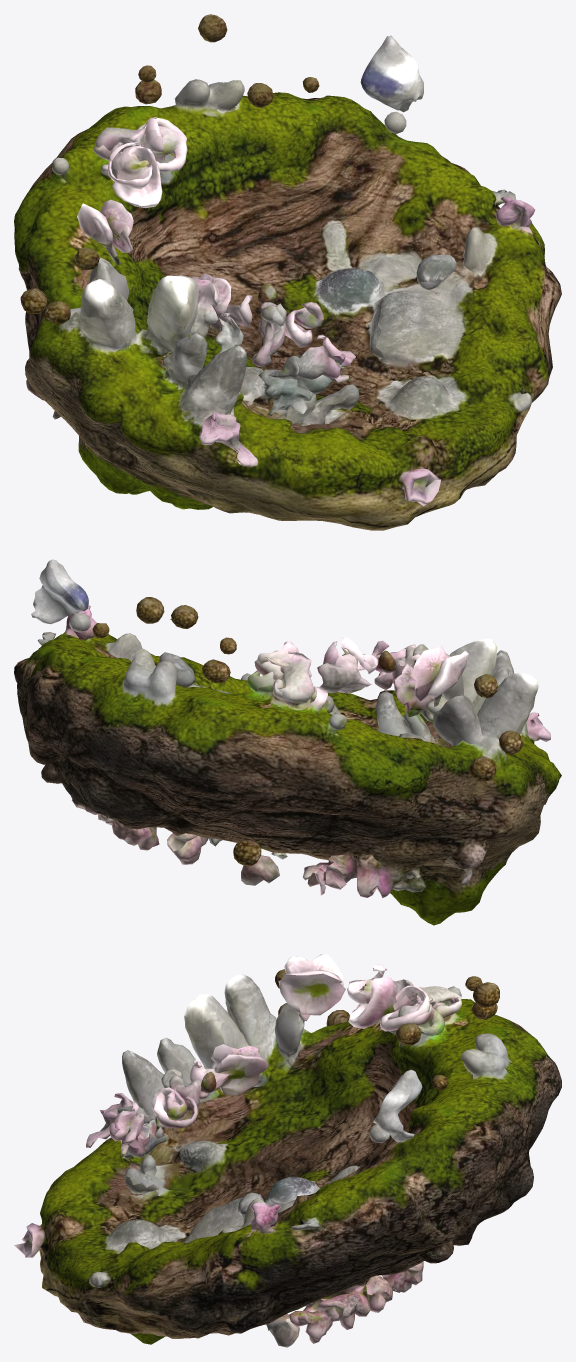
The model's file is mossy-log.glb.
3 views of the same model, one above another, from view 1: azimuth 30°, elevation 25°; view 2: azimuth 150°, elevation 25°; view 3: azimuth 270°, elevation 25° (orthographic). The views are drawn at different scales.
Visible parts, largest first — view 1: mesh_node; view 2: mesh_node; view 3: mesh_node.
Part boxes in pixels (left/top/right/bottom): mesh_node: left=14, top=14, right=561, bottom=530; mesh_node: left=14, top=559, right=561, bottom=925; mesh_node: left=14, top=954, right=561, bottom=1347.
Size of the model in its own units: 1.86 by 1.3 by 1.91.
1 material, 1 textured.
